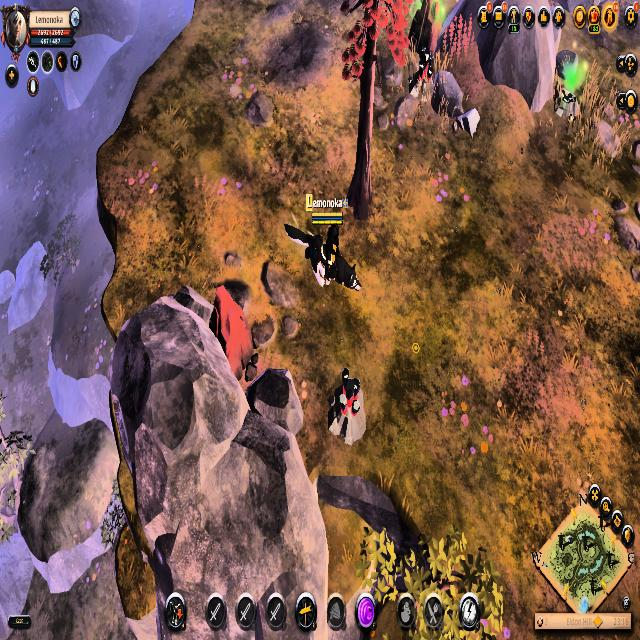ore tier 5: (326, 366, 368, 444), (412, 46, 437, 103)
rock tier 5: (209, 280, 260, 386)
